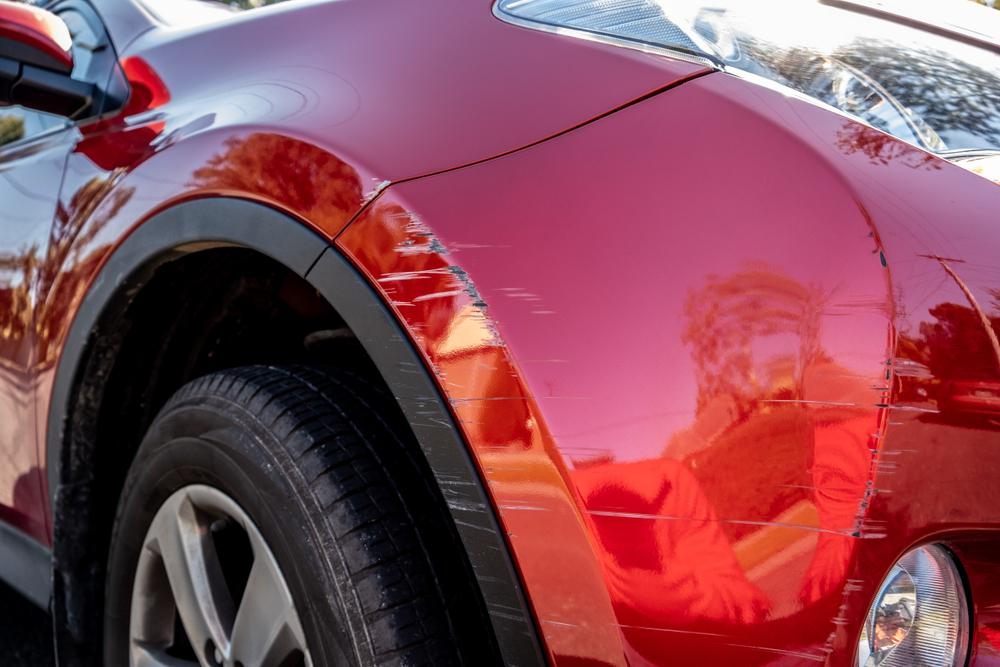scratch: (374, 209, 940, 667), (366, 319, 535, 638)
